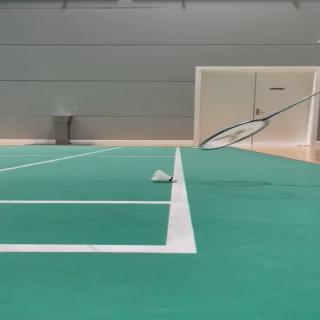Shuttle: (150, 170, 178, 182)
